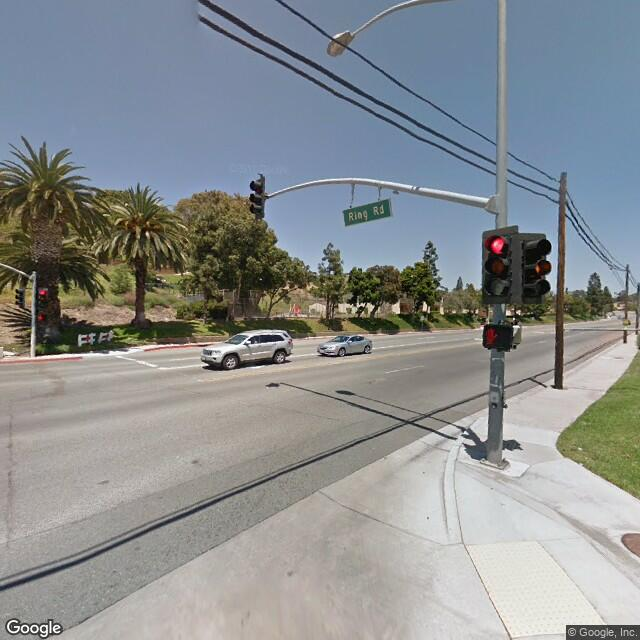litter: (573, 442, 588, 456)
